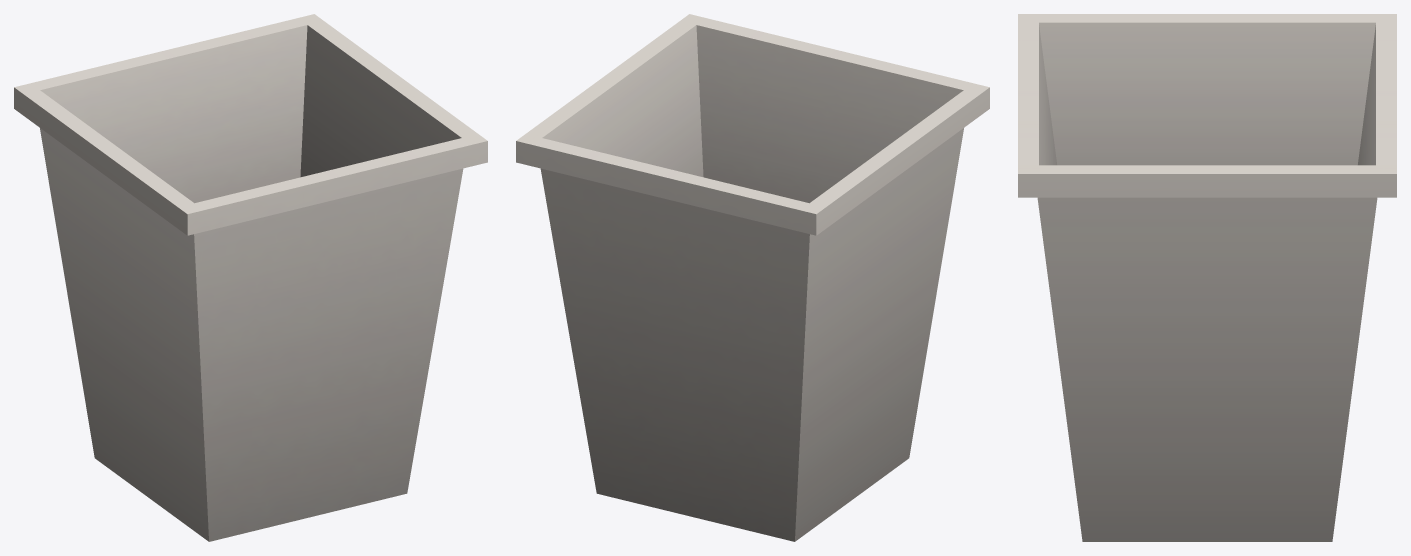
Rendered from WastebasketSquareSmall.fbx.
The picture shows the model from 3 angles, left to right: view 1: azimuth 30°, elevation 25°; view 2: azimuth 150°, elevation 25°; view 3: azimuth 270°, elevation 25°; orthographic projection. The views are drawn at different scales.
Parts seen in each view (by area): view 1: WastebasketSquareSmall; view 2: WastebasketSquareSmall; view 3: WastebasketSquareSmall.
Boxes of the visible parts, x1=… form: WastebasketSquareSmall: x1=14, y1=14, x2=487, y2=541; WastebasketSquareSmall: x1=516, y1=14, x2=989, y2=541; WastebasketSquareSmall: x1=1018, y1=14, x2=1396, y2=541.
Size of the model in its own units: 32.19 by 37.04 by 32.19.
